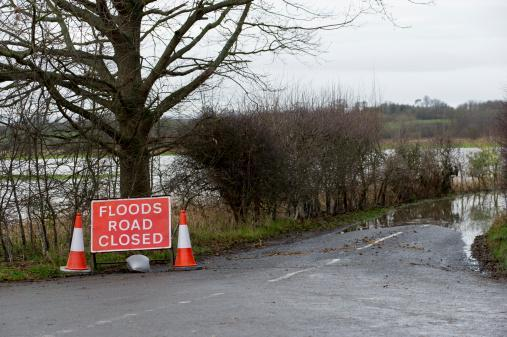Cone: (168, 210, 201, 269), (61, 212, 90, 273)
